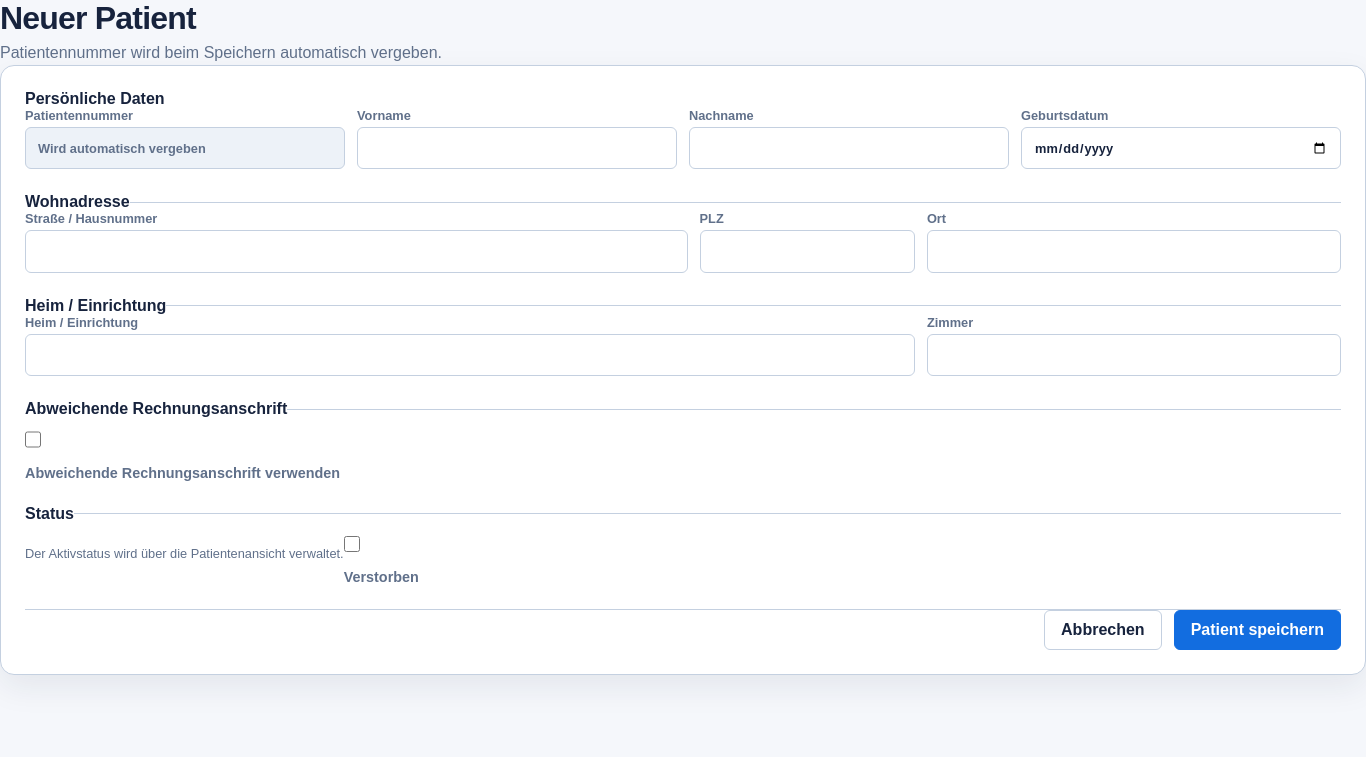
it: Patient form › shows the automatic patient number and toggles the invoice address
Expected: the field showing "Wird automatisch vergeben" is disabled, [25, 127, 345, 169]
Expected: the field labelled "Rechnungsempfänger" is not shown
What coordinates should you click on to do the following:
click the checkbox labelled "Abweichende Rechnungsanschrift verwenden"
I would click on:
 (33, 439)
Its box is [25, 418, 41, 461].
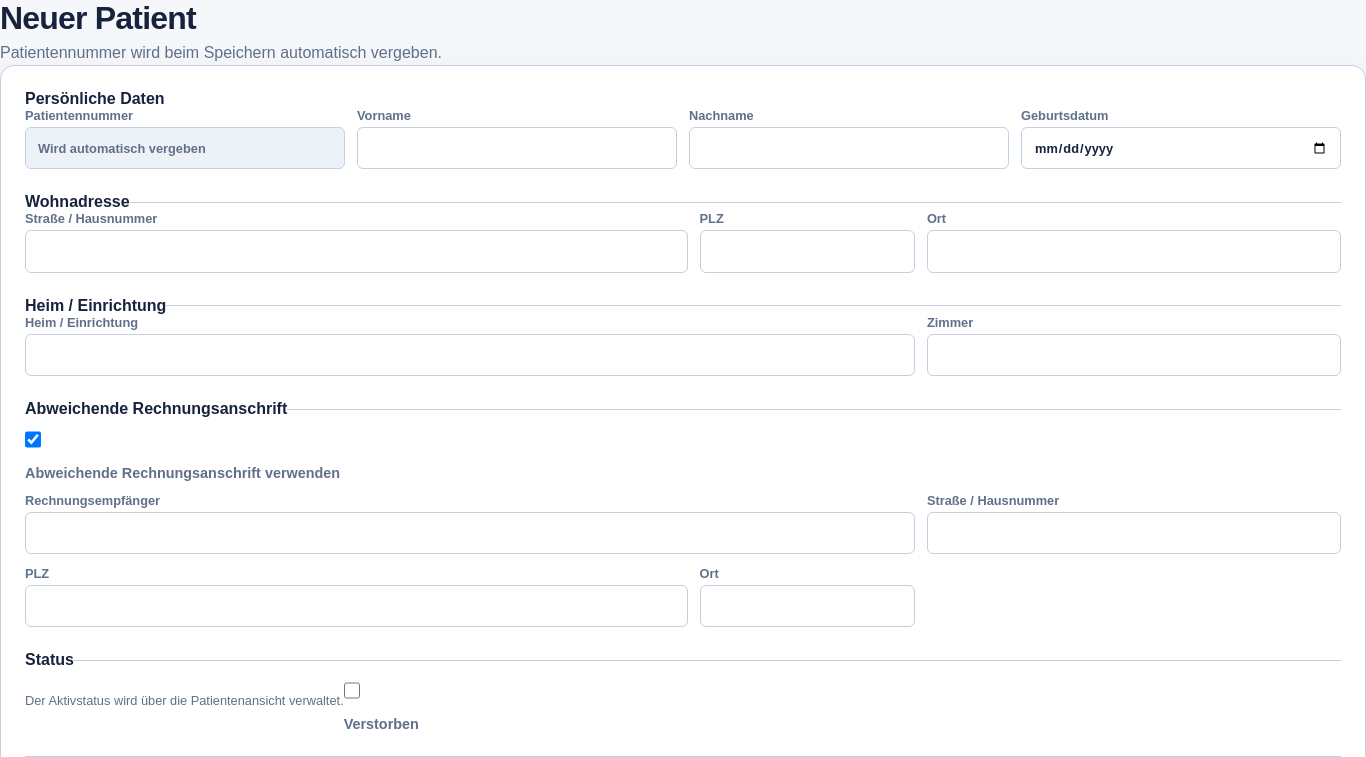
Expected: the field labelled "Rechnungsempfänger" is shown, [25, 512, 915, 554]
